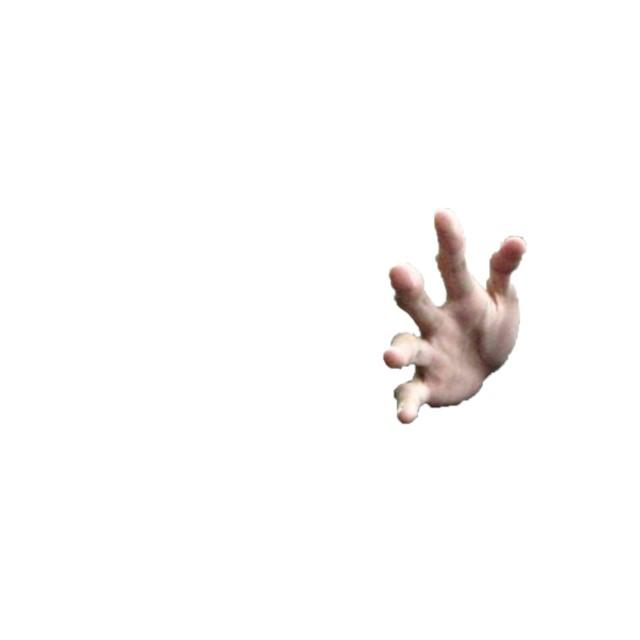pa-: (381, 206, 527, 429)
